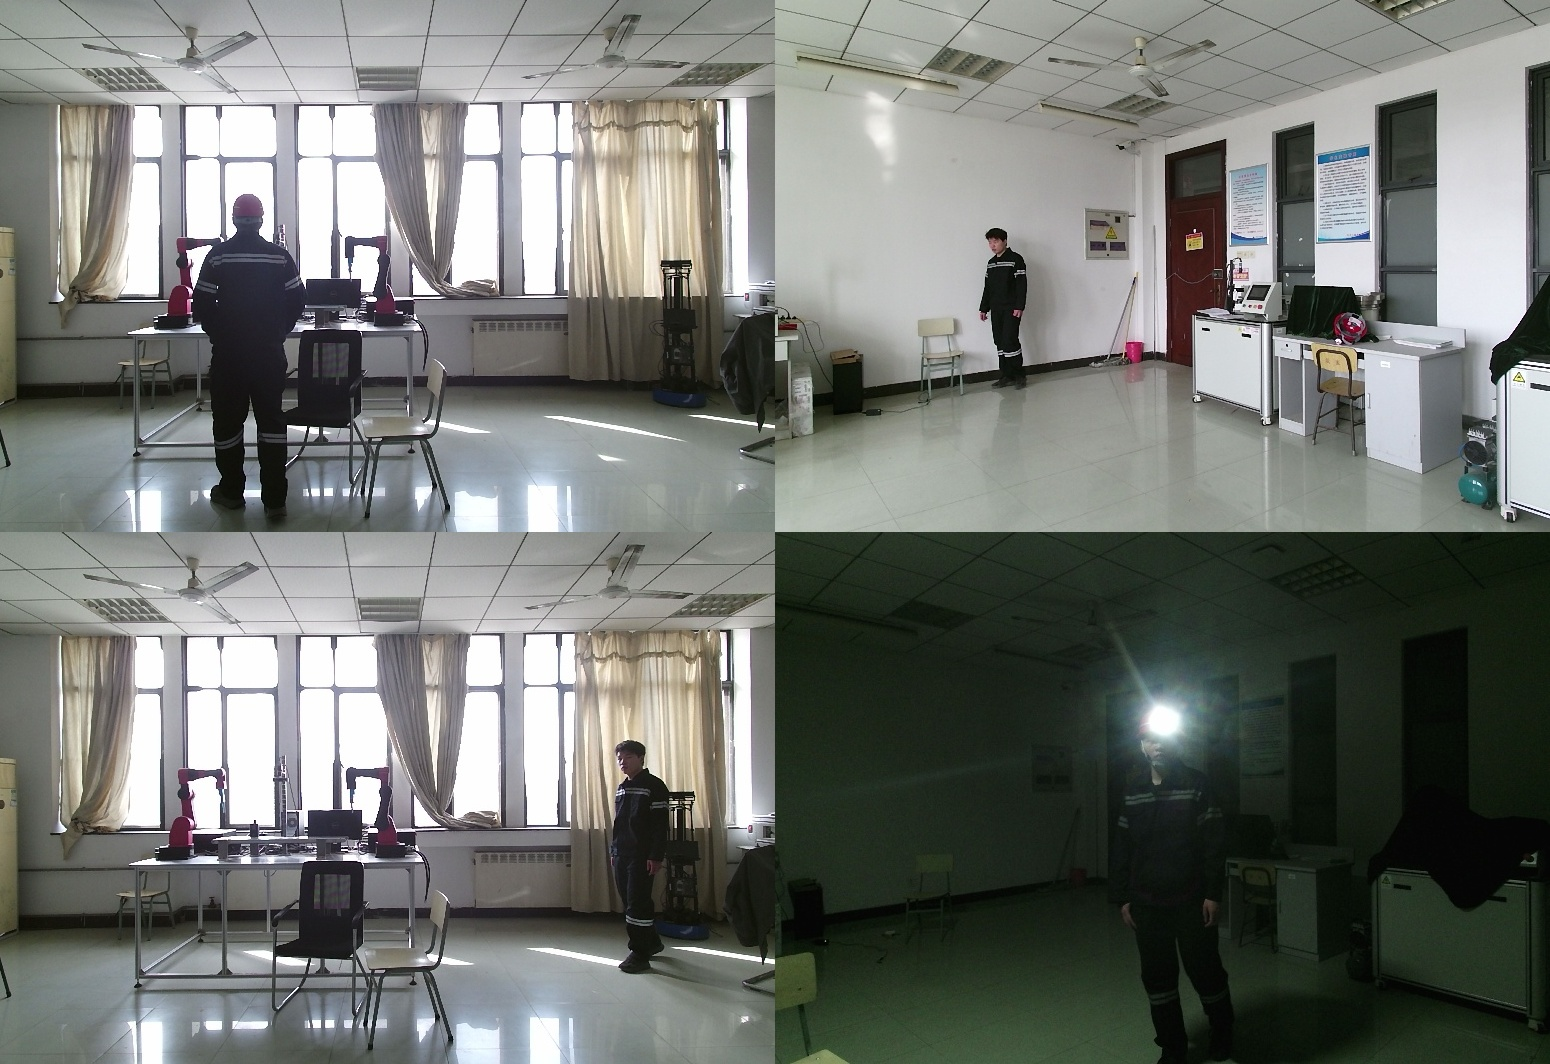person: (1116, 707, 1246, 1064), (190, 194, 310, 523), (616, 742, 683, 977), (976, 228, 1043, 394)
